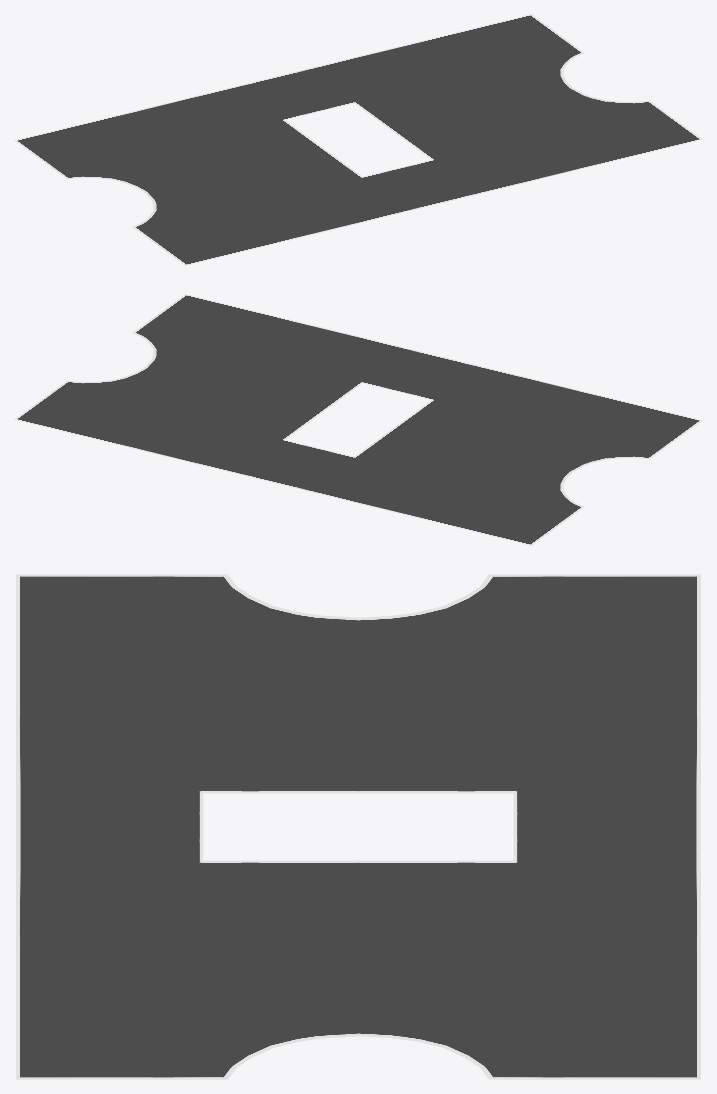
The model's file is ramkaNecropolis.fbx.
3 views of the same model, one above another, from view 1: azimuth 30°, elevation 25°; view 2: azimuth 150°, elevation 25°; view 3: azimuth 270°, elevation 25° (orthographic). The views are drawn at different scales.
Visible parts, largest first — view 1: FullQuarterNecropolis; view 2: FullQuarterNecropolis; view 3: FullQuarterNecropolis.
Part boxes in pixels (left/top/right/bottom): FullQuarterNecropolis: left=14, top=14, right=702, bottom=265; FullQuarterNecropolis: left=14, top=294, right=702, bottom=545; FullQuarterNecropolis: left=16, top=574, right=700, bottom=1079.
Bounding box in the file's own units: 2454 × 0 × 1407.
